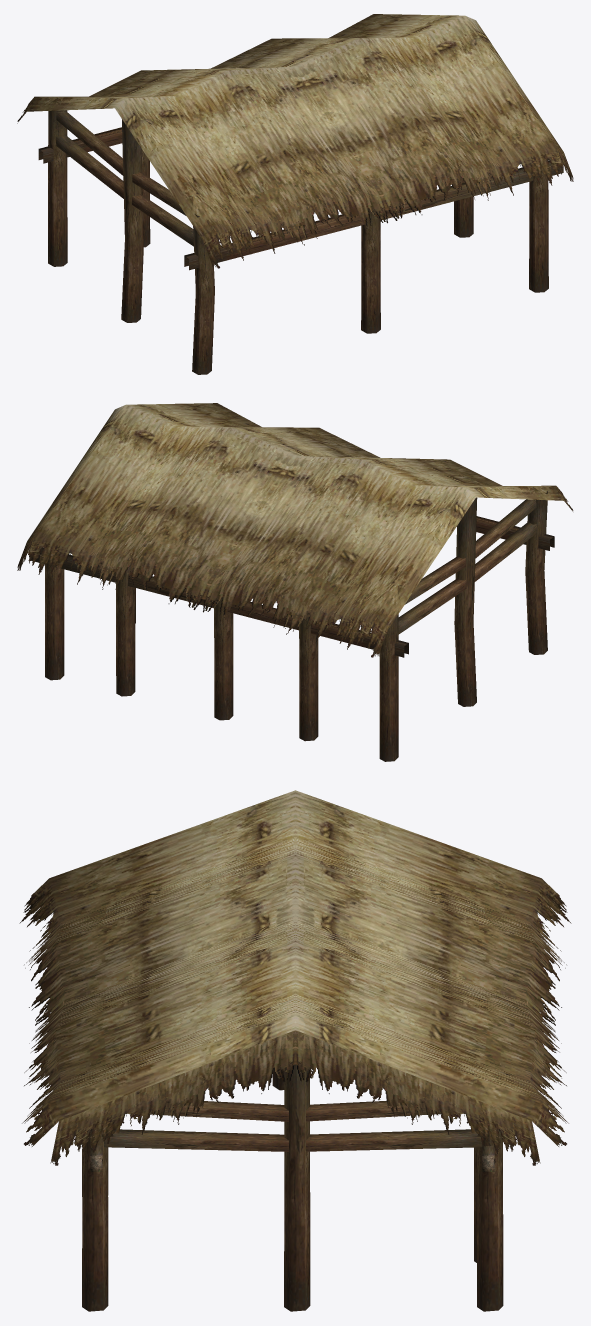
File: Hangzhou_wj_035.FBX
The picture shows the model from 3 angles, top to bottom: view 1: azimuth 30°, elevation 25°; view 2: azimuth 150°, elevation 25°; view 3: azimuth 270°, elevation 25°; orthographic projection. The views are drawn at different scales.
Visible parts, largest first — view 1: Object07maocaowu; view 2: Object07maocaowu; view 3: Object07maocaowu.
Part boxes in pixels (x1=…): Object07maocaowu: x1=17, y1=14, x2=573, y2=374; Object07maocaowu: x1=17, y1=403, x2=573, y2=761; Object07maocaowu: x1=19, y1=790, x2=571, y2=1311.
Bounding box in the file's own units: 7.53 × 4.24 × 7.27.
